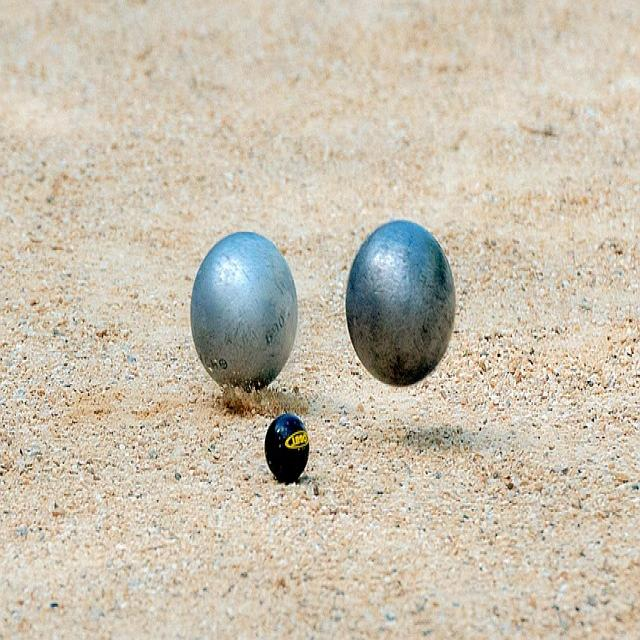hatball: (254, 403, 318, 497)
petanque: (339, 214, 468, 396), (185, 229, 304, 408)
